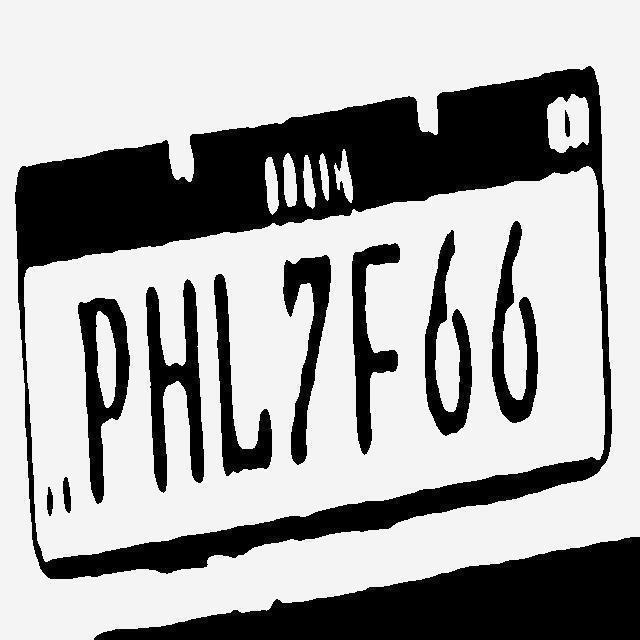6: (421, 226, 476, 441), (492, 214, 543, 428)
7: (280, 254, 334, 466)
f: (348, 242, 404, 458)
h: (144, 277, 204, 495)
l: (214, 268, 274, 477)
p: (73, 294, 133, 507)
